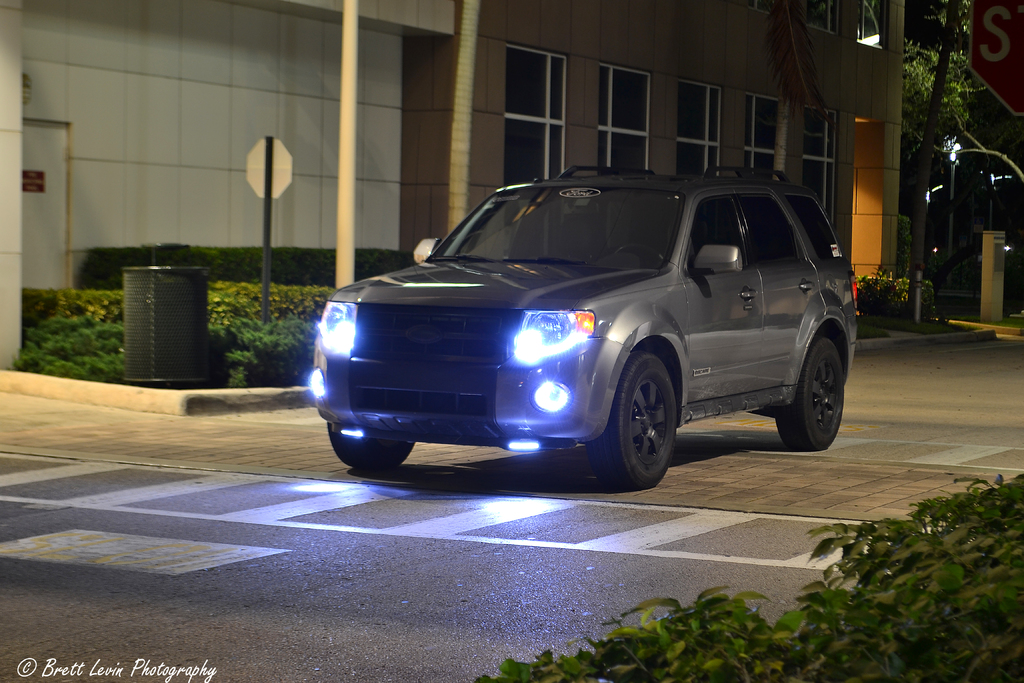Car: (312, 163, 862, 489)
